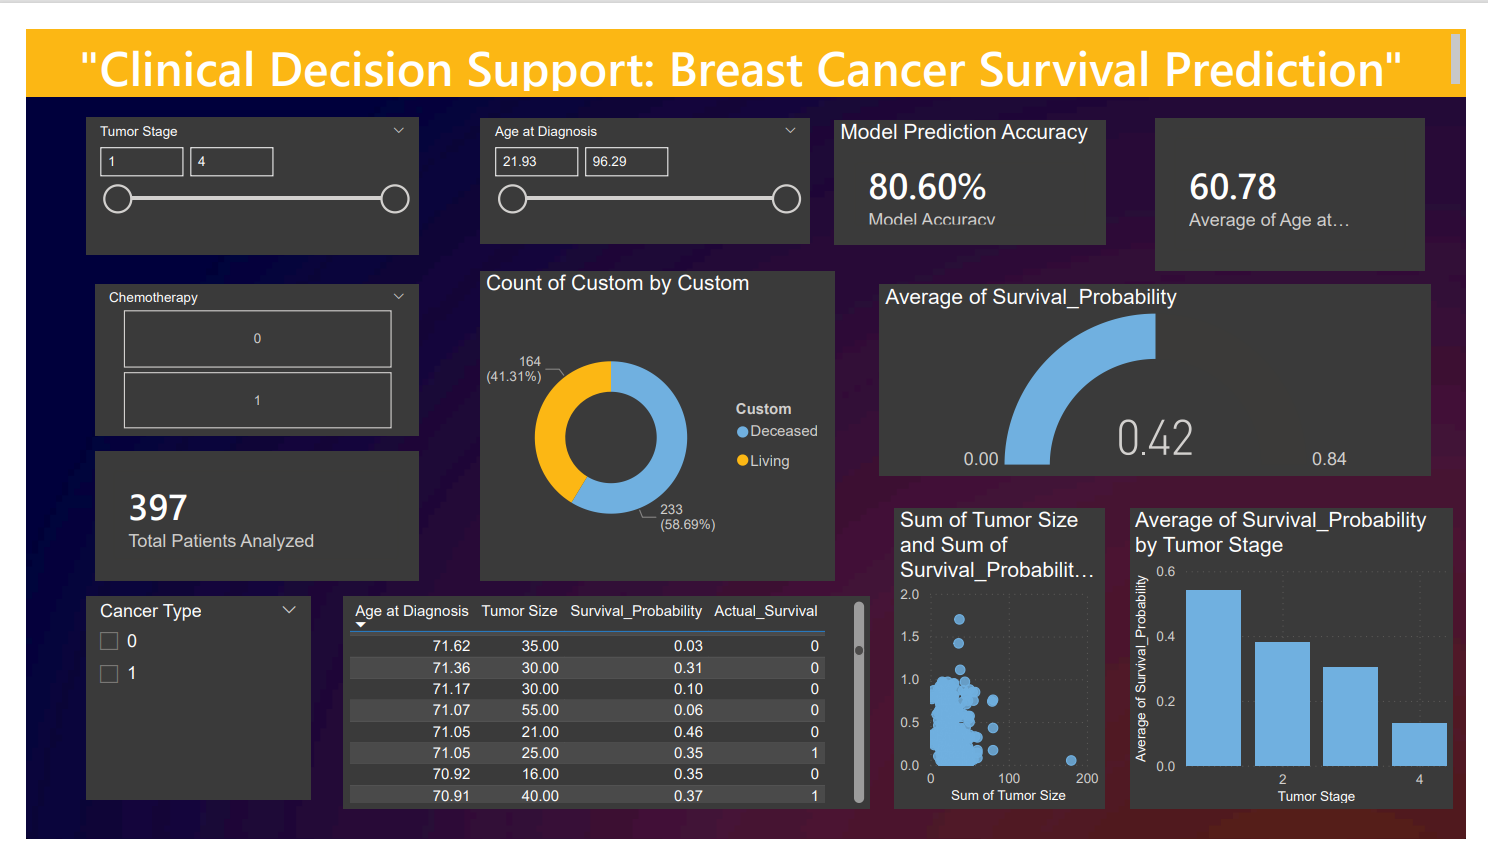

Layout of this report page (visuals, bound fields, positions):
{"tool":"powerbi","page":{"name":"Page 1","canvas":[1280,720],"ordinal":0},"visuals":[{"type":"cardVisual","title":"Model Prediction Accuracy","fields":{"Data":["METABRIC_Model_Results_for_BI.Model Accuracy","METABRIC_Model_Results_for_BI.Model Accuracy"]},"box":[719,80.7,240.9,111.3],"z":0},{"type":"donutChart","fields":{"Category":["METABRIC_Model_Results_for_BI.Custom"],"Y":["CountNonNull(METABRIC_Model_Results_for_BI.Custom)"]},"box":[403.5,215.2,315.5,275.1],"z":1000},{"type":"tableEx","fields":{"Values":["METABRIC_Model_Results_for_BI.Age at Diagnosis","METABRIC_Model_Results_for_BI.Tumor Size","METABRIC_Model_Results_for_BI.Survival_Probability","METABRIC_Model_Results_for_BI.Actual_Survival"]},"box":[282.5,503.8,467.1,189.5],"z":2000},{"type":"slicer","fields":{"Values":["METABRIC_Model_Results_for_BI.Age at Diagnosis"]},"box":[403.5,79.5,293.5,111.3],"z":3000},{"type":"slicer","fields":{"Values":["METABRIC_Model_Results_for_BI.Cancer Type"]},"box":[52.6,503.8,200.5,181],"z":4000},{"type":"clusteredColumnChart","fields":{"Y":["Avg(METABRIC_Model_Results_for_BI.Survival_Probability)"],"Category":["METABRIC_Model_Results_for_BI.Tumor Stage"]},"box":[980.7,425.5,287.4,267.8],"z":6000},{"type":"cardVisual","fields":{"Data":["CountNonNull(METABRIC_Model_Results_for_BI.Actual_Survival)"]},"box":[61.1,375.4,287.4,114.9],"z":7000},{"type":"cardVisual","fields":{"Data":["Avg(METABRIC_Model_Results_for_BI.Age at Diagnosis)"]},"box":[1003.9,79.5,239.7,135.7],"z":8000},{"type":"gauge","fields":{"Y":["Avg(METABRIC_Model_Results_for_BI.Survival_Probability)"]},"box":[759.4,227.4,489.1,170],"z":9000},{"type":"scatterChart","fields":{"Y":["Sum(METABRIC_Model_Results_for_BI.Survival_Probability)"],"X":["Sum(METABRIC_Model_Results_for_BI.Tumor Size)"],"Category":["METABRIC_Model_Results_for_BI.Age at Diagnosis"]},"box":[771.6,425.5,187.1,267.8],"z":9001},{"type":"slicer","fields":{"Values":["METABRIC_Model_Results_for_BI.Tumor Stage"]},"box":[52.6,79.5,295.9,121.1],"z":9002},{"type":"slicer","fields":{"Values":["METABRIC_Model_Results_for_BI.Chemotherapy"]},"box":[61.1,227.4,287.4,134.5],"z":9003},{"type":"textbox","box":[0,0,1280,60],"z":9004}]}

Visuals, with their boxes in screenshot pixels (x1, y1, x2, y2), scaled from the page's 1280x720 canvas onto the 1488x857 screenshot:
"Model Prediction Accuracy" cardVisual: detection(836, 96, 1116, 229)
donutChart - METABRIC_Model_Results_for_BI.Custom x CountNonNull(METABRIC_Model_Results_for_BI.Custom): detection(469, 256, 836, 584)
tableEx - METABRIC_Model_Results_for_BI.Age at Diagnosis x METABRIC_Model_Results_for_BI.Tumor Size: detection(328, 600, 871, 825)
slicer - METABRIC_Model_Results_for_BI.Age at Diagnosis: detection(469, 95, 810, 227)
slicer - METABRIC_Model_Results_for_BI.Cancer Type: detection(61, 600, 294, 815)
clusteredColumnChart - Avg(METABRIC_Model_Results_for_BI.Survival_Probability) x METABRIC_Model_Results_for_BI.Tumor Stage: detection(1140, 506, 1474, 825)
cardVisual - CountNonNull(METABRIC_Model_Results_for_BI.Actual_Survival): detection(71, 447, 405, 584)
cardVisual - Avg(METABRIC_Model_Results_for_BI.Age at Diagnosis): detection(1167, 95, 1446, 256)
gauge - Avg(METABRIC_Model_Results_for_BI.Survival_Probability): detection(883, 271, 1451, 473)
scatterChart - Sum(METABRIC_Model_Results_for_BI.Survival_Probability) x Sum(METABRIC_Model_Results_for_BI.Tumor Size): detection(897, 506, 1114, 825)
slicer - METABRIC_Model_Results_for_BI.Tumor Stage: detection(61, 95, 405, 239)
slicer - METABRIC_Model_Results_for_BI.Chemotherapy: detection(71, 271, 405, 431)
textbox: detection(0, 0, 1487, 71)
